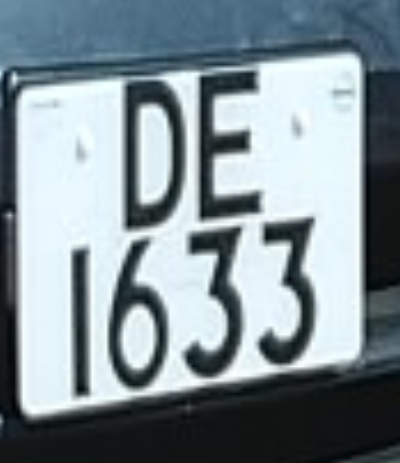1: (60, 223, 108, 408)
3: (174, 222, 250, 387), (252, 212, 327, 375)
6: (102, 232, 178, 401)
D: (111, 54, 197, 237)
E: (188, 54, 275, 230)
